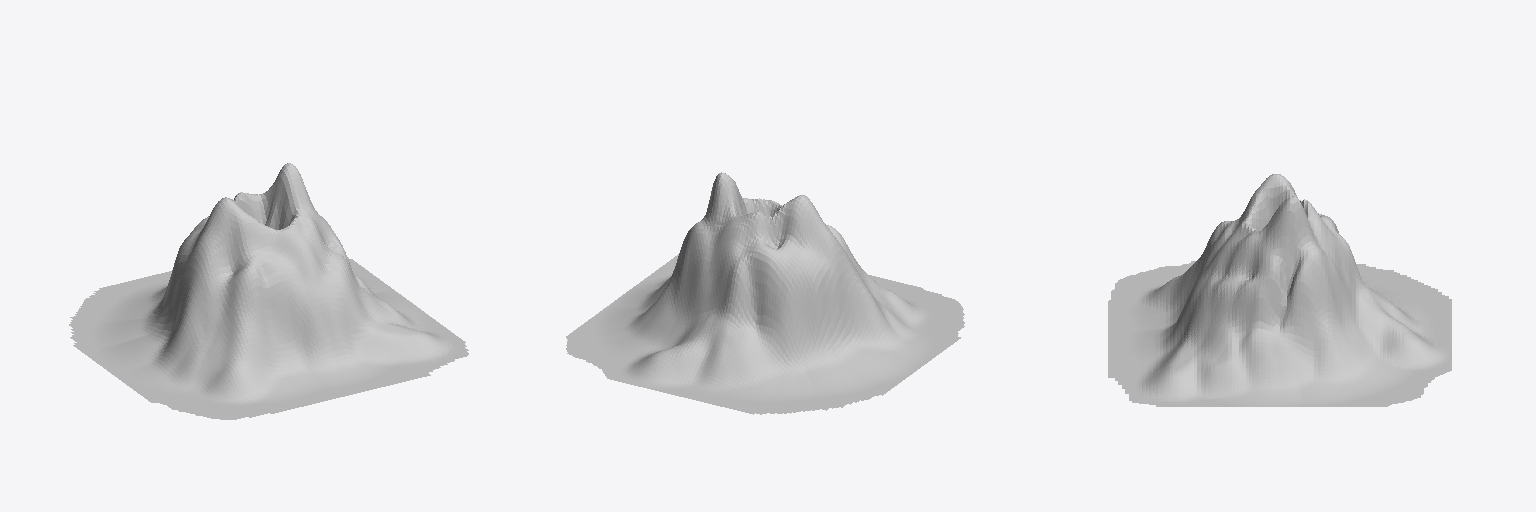
Rendered from volcan.obj.
The picture shows the model from 3 angles: view 1: azimuth 30°, elevation 25°; view 2: azimuth 150°, elevation 25°; view 3: azimuth 270°, elevation 25°; orthographic projection.
Parts seen in each view (by area): view 1: Plane01; view 2: Plane01; view 3: Plane01.
Boxes of the visible parts, box(x1,y1,x2,y2) form: Plane01: box(69, 163, 468, 419); Plane01: box(566, 172, 964, 414); Plane01: box(1108, 174, 1451, 406).
Bounding box in the file's own units: 215 × 108 × 215.